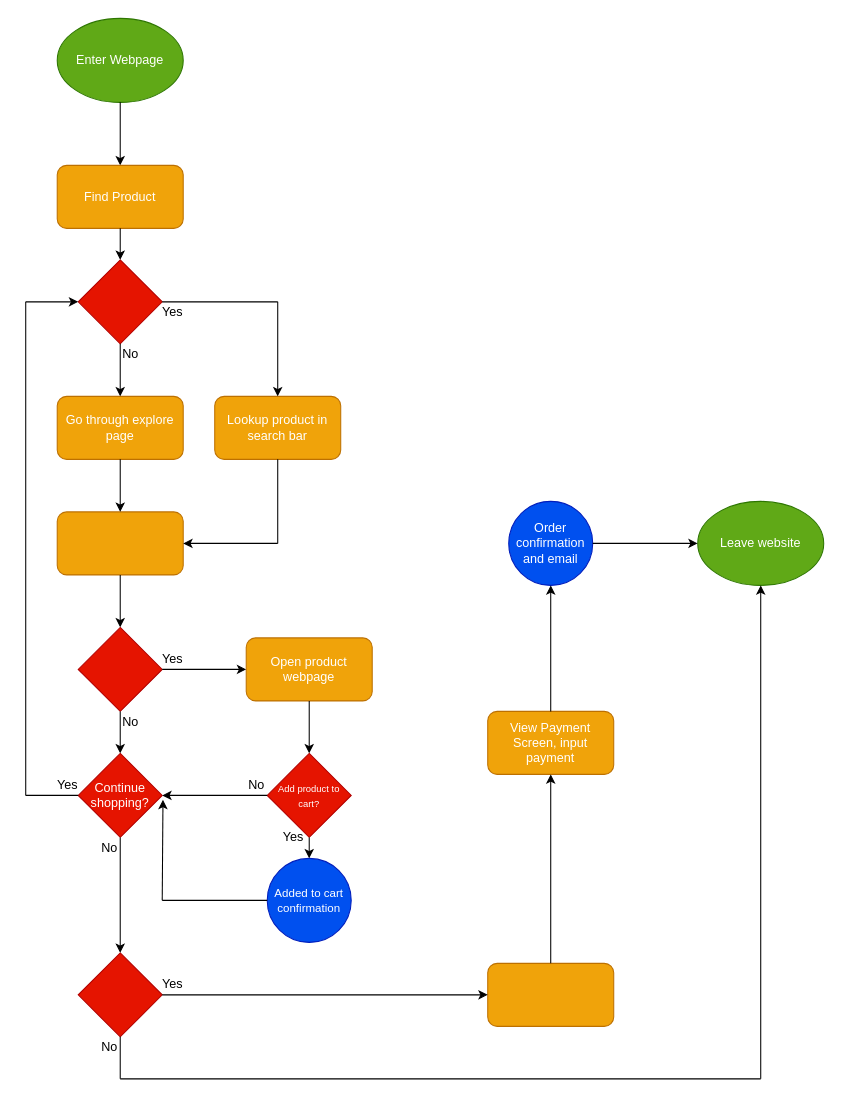
Image size: 842x1106. Some labels were removed from this diagram. The shapes that lost their labels are listed below. From the top down, each one's box as (x1, y1, x2, y2) in pixels, then its label:
(77, 259, 162, 344): Search for a product?
(56, 511, 183, 575): Look through products
(77, 626, 162, 711): View a specific product?
(77, 952, 162, 1037): Checkout?
(487, 962, 614, 1026): View Cart Screen
